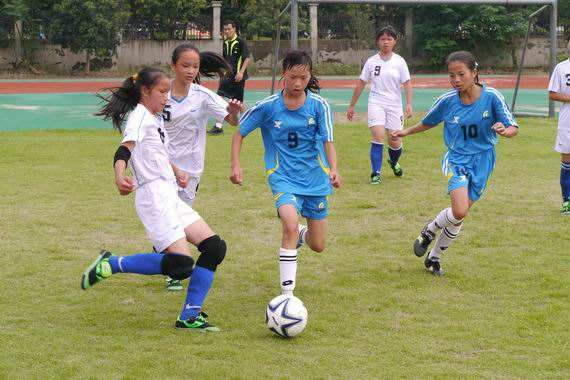football: (267, 296, 308, 340)
